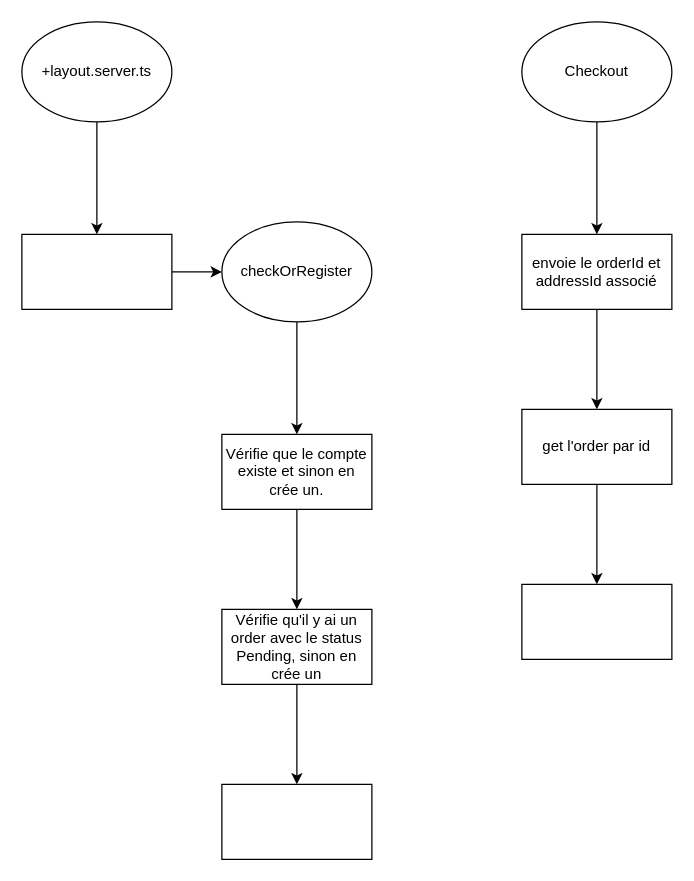
Image size: 694x881. Some labels were removed from this diagram. Here are the shapes that lost their labels. From the top down, the centre of each, then its label:
At point (96, 271): "getSession () recupère le token".
At point (596, 621): "ajoute l'adressId dans Order".
At point (296, 821): "Order assigne les data dans le store du (panier)".
